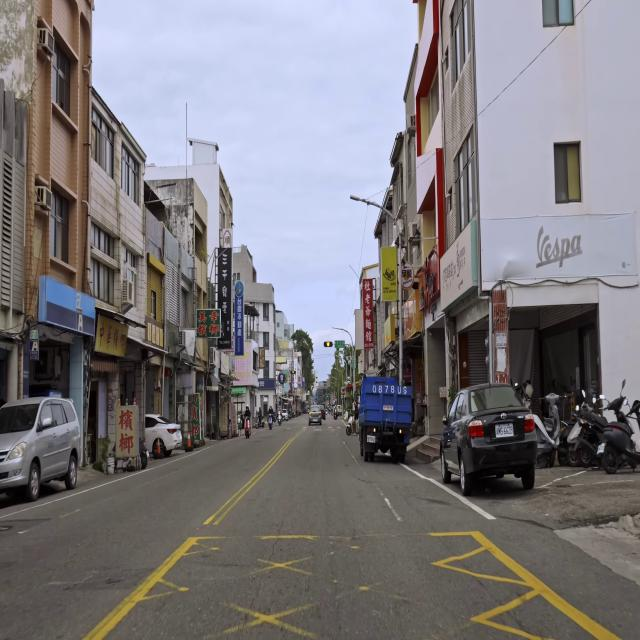yellow light: (323, 341, 333, 348), (291, 370, 296, 374)
